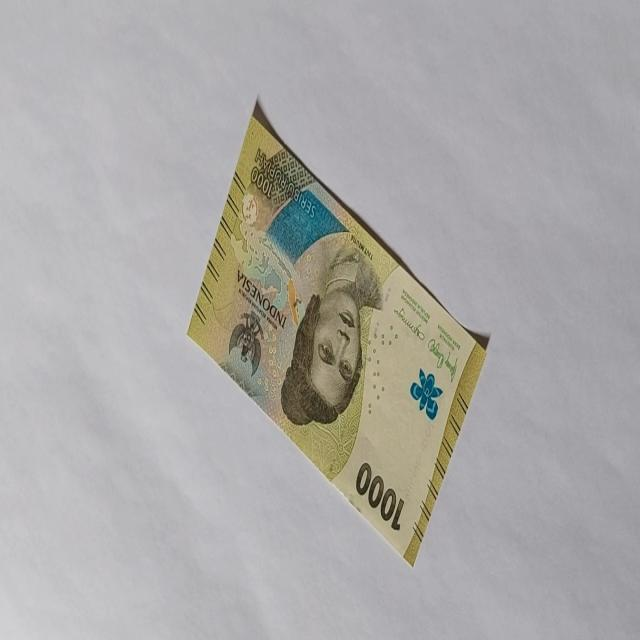seribu rupiah kertas: (185, 98, 489, 568)
